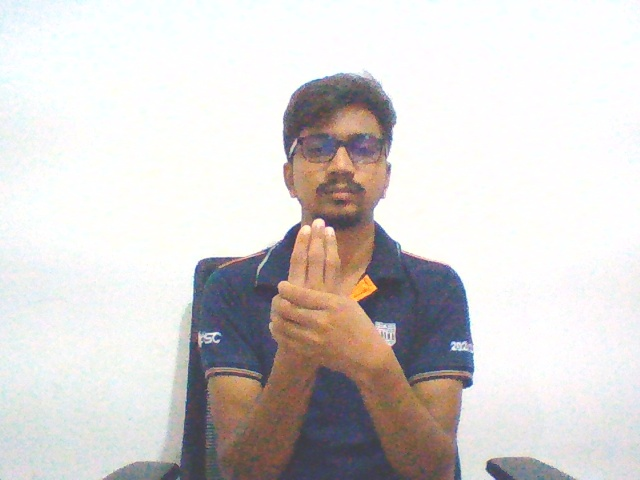tree: (256, 207, 397, 385)
